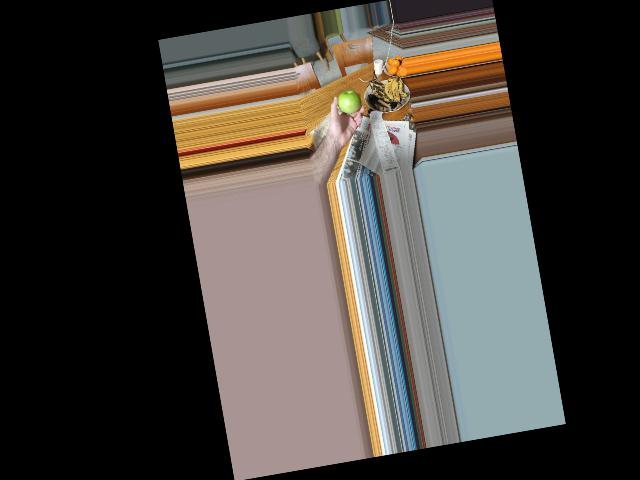apple: (334, 89, 359, 116)
